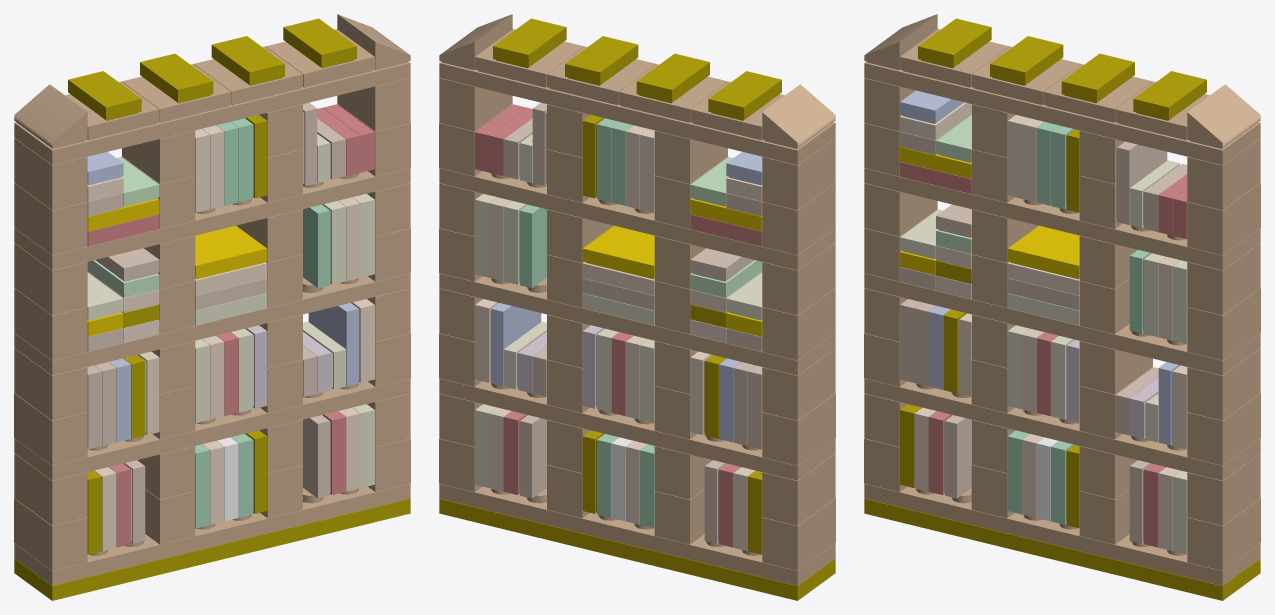
Rendered from bookcase_636b7535.glb.
The picture shows the model from 3 angles, left to right: view 1: azimuth 30°, elevation 25°; view 2: azimuth 150°, elevation 25°; view 3: azimuth 330°, elevation 25°; orthographic projection.
Parts seen in each view (by area): view 1: skfb_offset; view 2: skfb_offset; view 3: skfb_offset.
Part boxes in pixels (bbox=[...]): skfb_offset: bbox=[14, 14, 410, 600]; skfb_offset: bbox=[439, 14, 835, 600]; skfb_offset: bbox=[864, 14, 1260, 600].
Size of the model in its own units: 199833 by 255786 by 36767.
